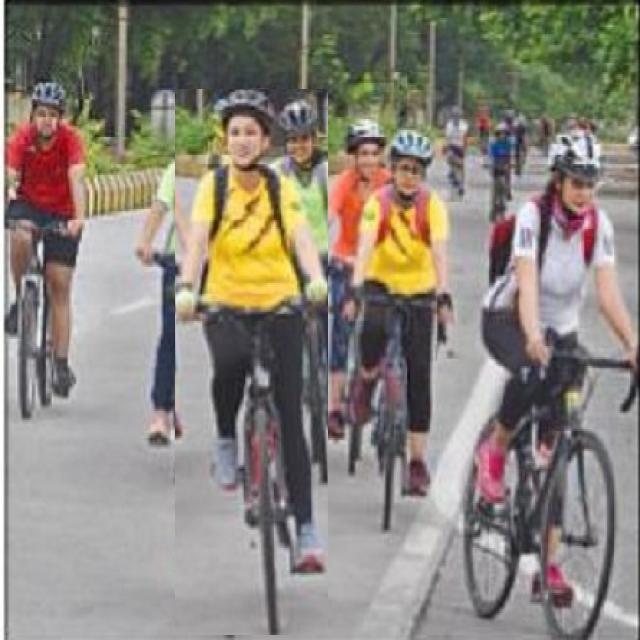bicycle: (464, 139, 636, 637), (176, 90, 328, 635)
